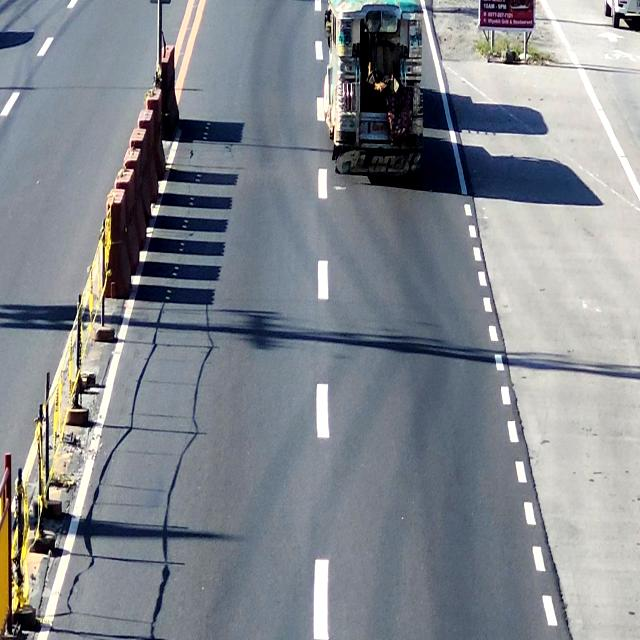Jeep: (326, 0, 427, 180)
